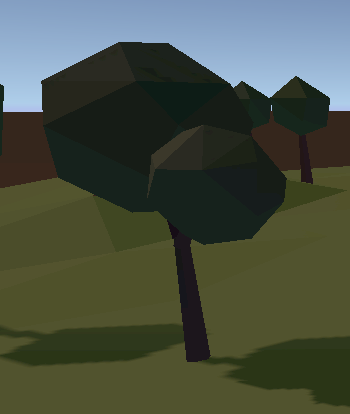tree: (36, 29, 310, 366)
